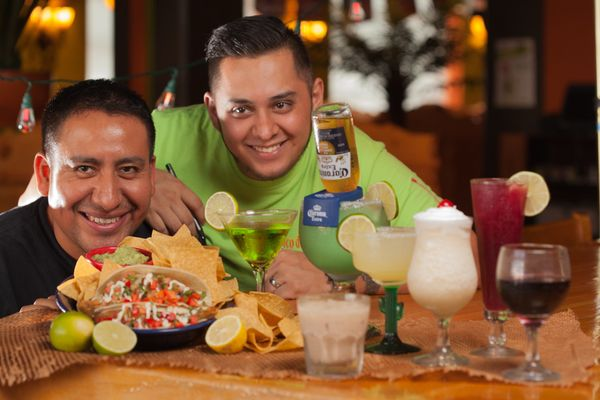pizza: (297, 291, 370, 380)
steak: (49, 310, 94, 351)
sushi: (55, 263, 232, 350)
taco: (204, 312, 248, 354), (92, 320, 138, 355)
